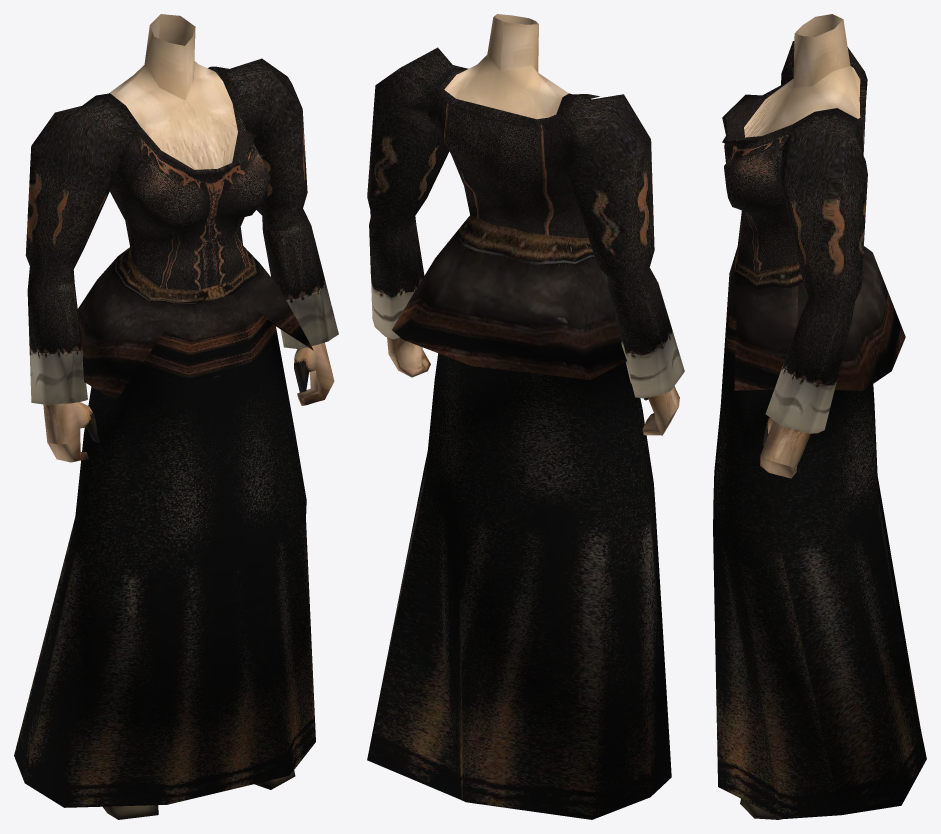
The model's file is ARMOR_WOMAN_LUMBERJACK.glb.
The picture shows the model from 3 angles, left to right: view 1: azimuth 30°, elevation 25°; view 2: azimuth 150°, elevation 25°; view 3: azimuth 270°, elevation 25°; orthographic projection.
Parts seen in each view (by area): view 1: ARMOR_WOMAN_LUMBERJACK; view 2: ARMOR_WOMAN_LUMBERJACK; view 3: ARMOR_WOMAN_LUMBERJACK.
Boxes of the visible parts, x1,y1,x2,y2 form: ARMOR_WOMAN_LUMBERJACK: (14,14,338,819); ARMOR_WOMAN_LUMBERJACK: (367,14,684,819); ARMOR_WOMAN_LUMBERJACK: (713,14,926,819).
Bounding box in the file's own units: 0.6832 × 1.68 × 0.4292.
2 materials, 2 textured.
